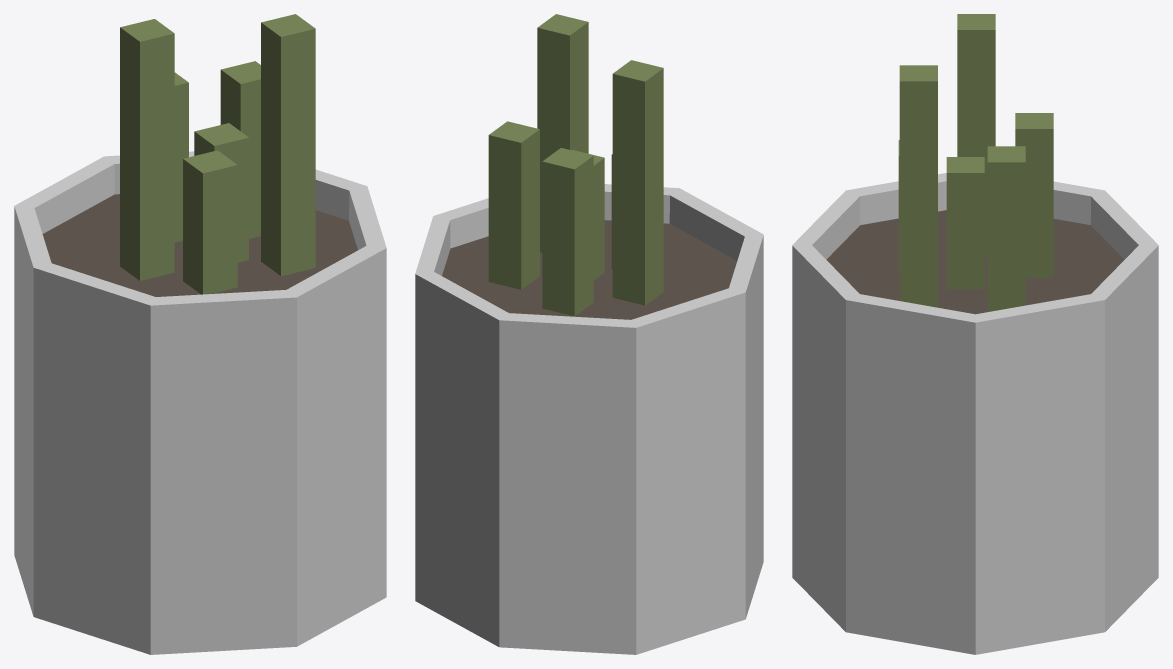
The model's file is PotPlantLP.fbx.
3 views of the same model, side by side, from view 1: azimuth 30°, elevation 25°; view 2: azimuth 150°, elevation 25°; view 3: azimuth 270°, elevation 25° (orthographic). The views are drawn at different scales.
Parts seen in each view (by area): view 1: SPlant; view 2: SPlant; view 3: SPlant.
Part boxes in pixels (<box>): SPlant: <box>14,14,386,654</box>; SPlant: <box>415,14,763,654</box>; SPlant: <box>792,14,1158,654</box>.
Size of the model in its own units: 2 by 3.2 by 2.
